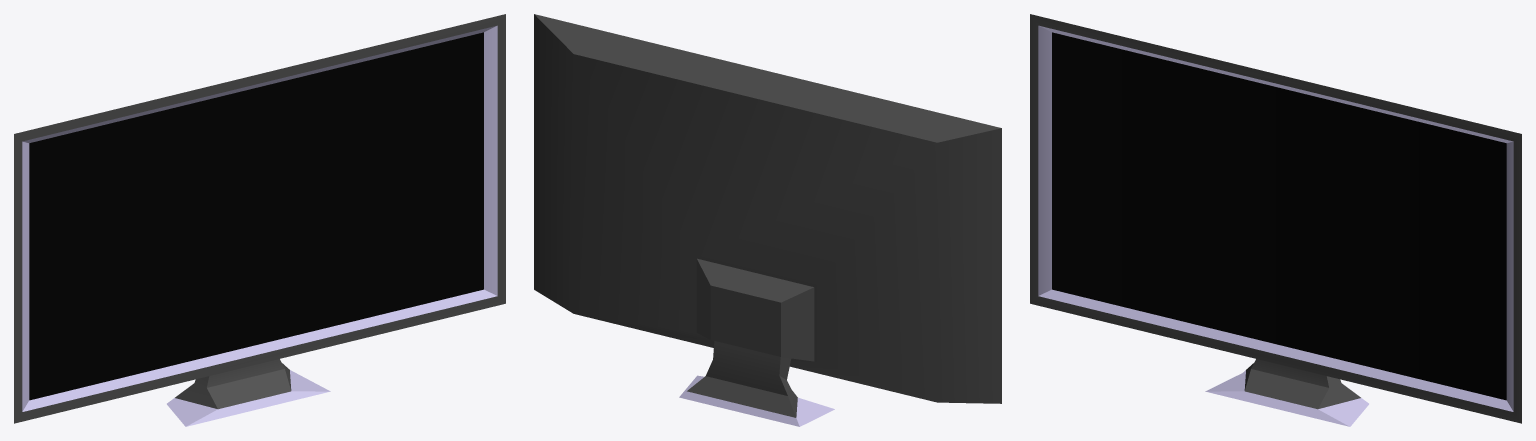
3 renders of one model, left to right at view 1: azimuth 30°, elevation 25°; view 2: azimuth 150°, elevation 25°; view 3: azimuth 330°, elevation 25°, orthographic. The views are drawn at different scales.
Parts seen in each view (by area): view 1: TV; view 2: TV; view 3: TV.
Part boxes in pixels (x1,y1,x2,y2): TV: (14,14,505,426); TV: (534,14,1001,426); TV: (1030,14,1521,426).
Size of the model in its own units: 1.62 by 1.06 by 0.172.
